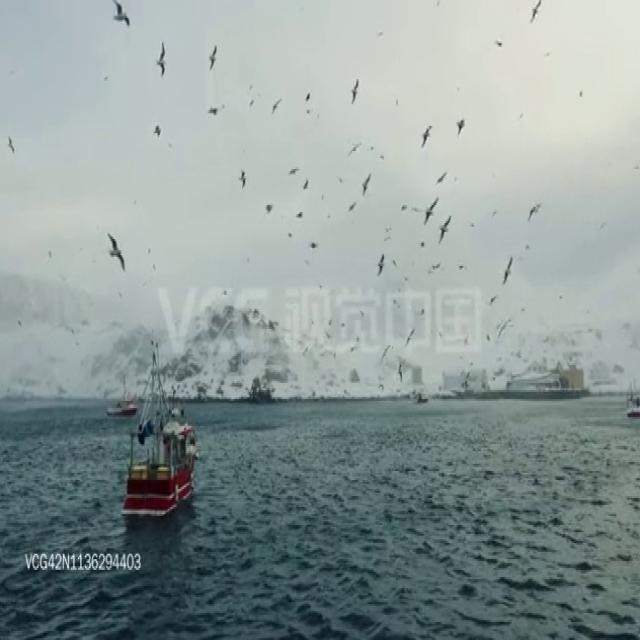fishing boat: (121, 338, 198, 517)
